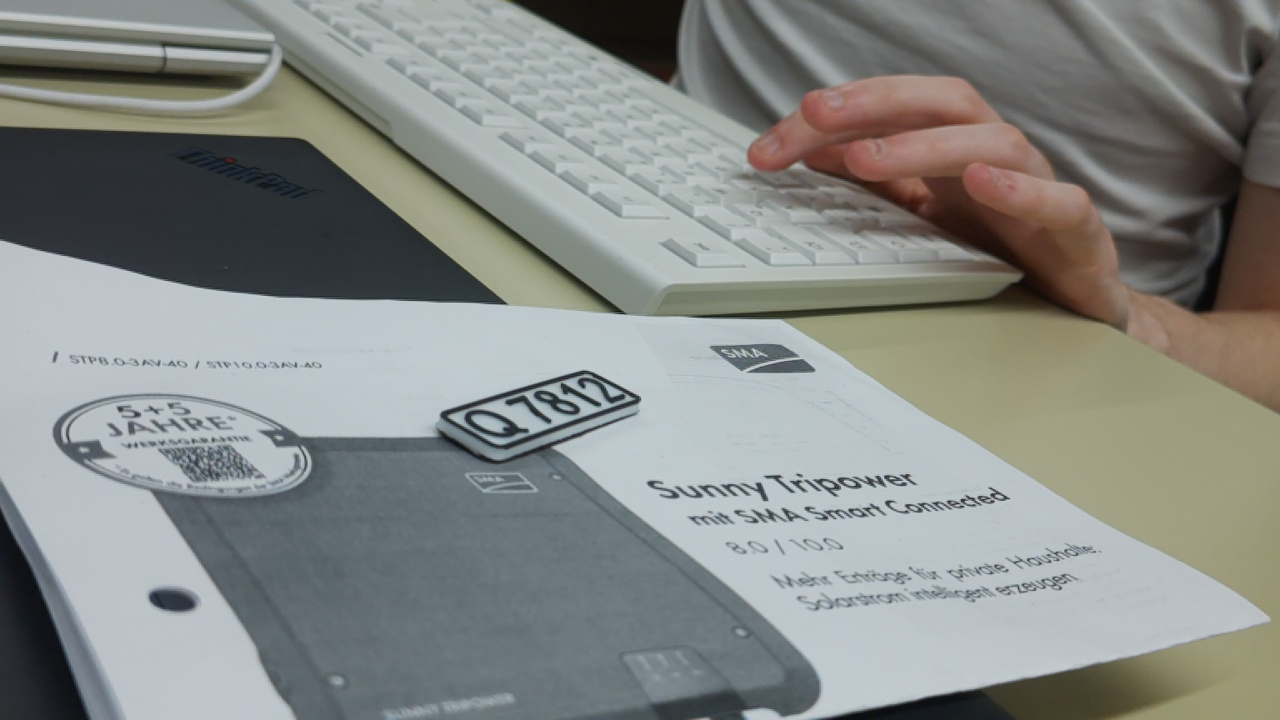license_plate: (432, 366, 643, 469)
